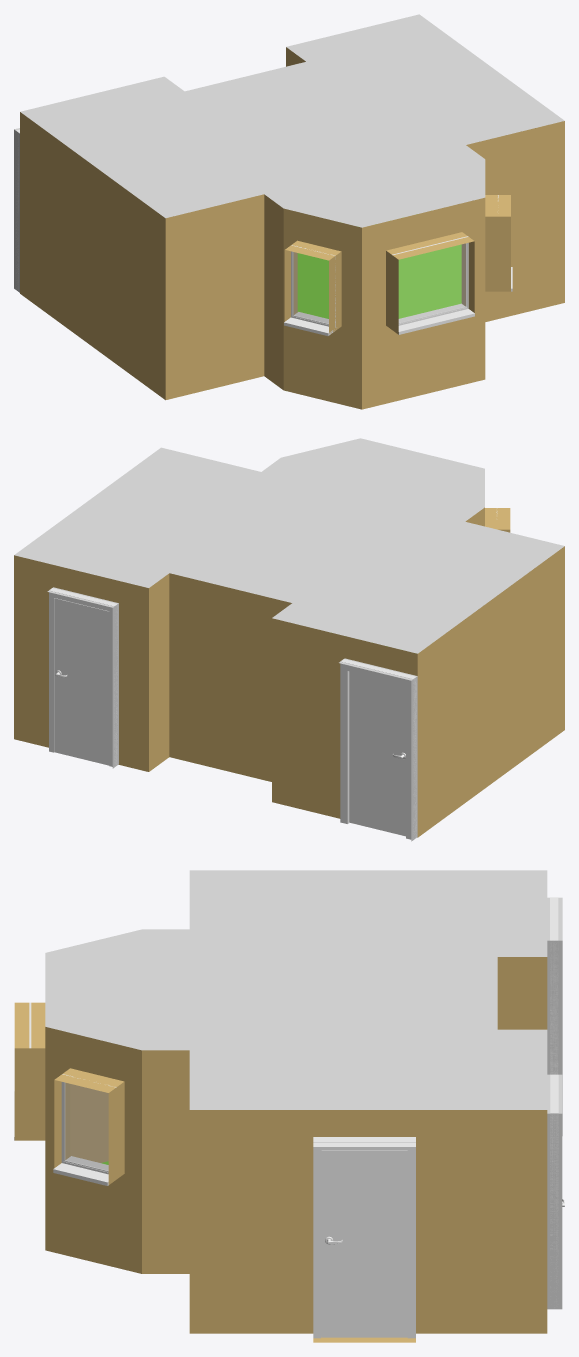
File: kellyburn_Room_Livingroom.glb
The picture shows the model from 3 angles, top to bottom: view 1: azimuth 30°, elevation 25°; view 2: azimuth 150°, elevation 25°; view 3: azimuth 270°, elevation 25°; orthographic projection. The views are drawn at different scales.
Parts seen in each view (by area): view 1: Room.Livingroom, Window, Window.002, WestBayWindowHole, FrontBayWindowHole, CTRL_Hole.011, EastBayWindowHole; view 2: Room.Livingroom, Door.001, Door, DoorFrame, DoorFrame.001, CTRL_Hole.011, CTRL_Hole.012, WestBayWindowHole; view 3: Room.Livingroom, Door.002, Window.001, FrontBayWindowHole, DoorFrame.002, EastBayWindowHole, CTRL_Hole.012, CTRL_Hole.011, DoorFrame, DoorFrame.001, CTRL_Hole.
Part boxes in pixels (x1,y1,x2,y2): Room.Livingroom: [20, 14, 564, 409]; Window: [392, 236, 474, 334]; Window.002: [284, 245, 336, 335]; WestBayWindowHole: [284, 240, 340, 333]; FrontBayWindowHole: [386, 232, 474, 259]; CTRL_Hole.011: [14, 128, 19, 292]; EastBayWindowHole: [485, 195, 510, 216]; Room.Livingroom: [14, 438, 564, 837]; Door.001: [54, 598, 109, 765]; Door: [349, 671, 405, 836]; DoorFrame: [340, 659, 416, 839]; DoorFrame.001: [49, 588, 117, 766]; CTRL_Hole.011: [339, 658, 417, 841]; CTRL_Hole.012: [47, 587, 118, 768]; WestBayWindowHole: [485, 508, 510, 532]; Room.Livingroom: [45, 870, 547, 1342]; Door.002: [321, 1150, 407, 1337]; Window.001: [53, 1074, 116, 1185]; FrontBayWindowHole: [14, 1002, 45, 1140]; DoorFrame.002: [313, 1139, 415, 1338]; EastBayWindowHole: [54, 1068, 124, 1184]; CTRL_Hole.012: [547, 1074, 562, 1309]; CTRL_Hole.011: [547, 897, 562, 1135]; DoorFrame: [550, 897, 558, 1074]; DoorFrame.001: [550, 1074, 558, 1307]; CTRL_Hole: [313, 1137, 415, 1146].
Size of the model in its own units: 5.74 by 2.4 by 5.36.
